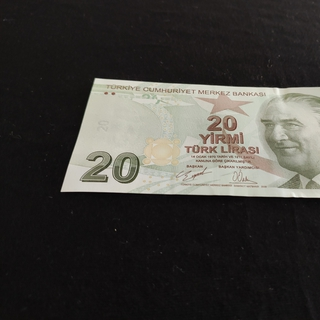20TLFront: (60, 77, 320, 201)
